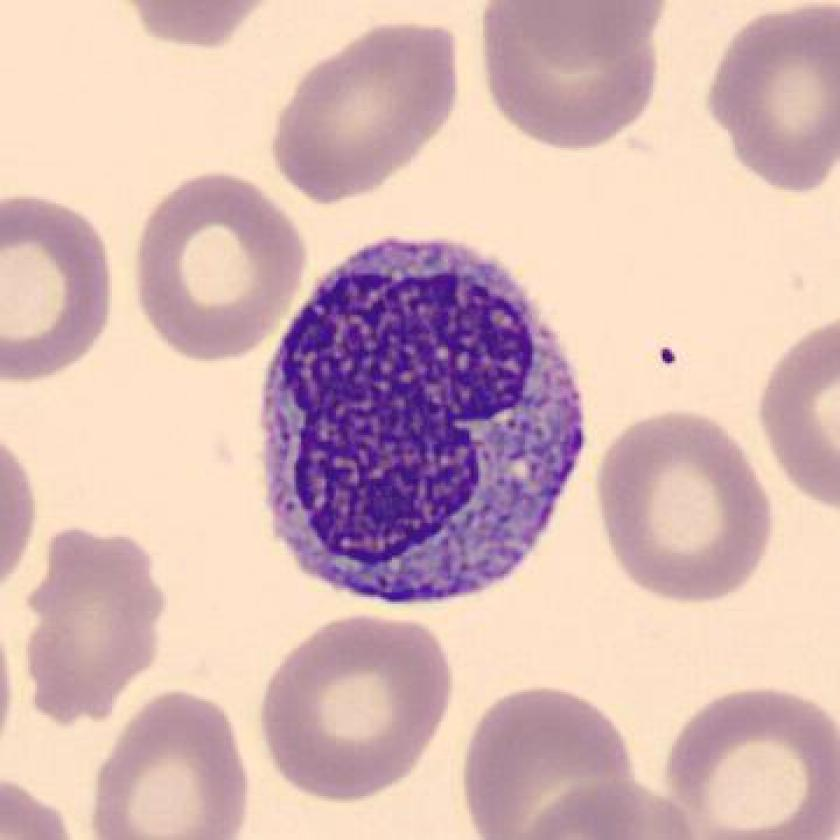monocyte: (239, 212, 598, 635)
